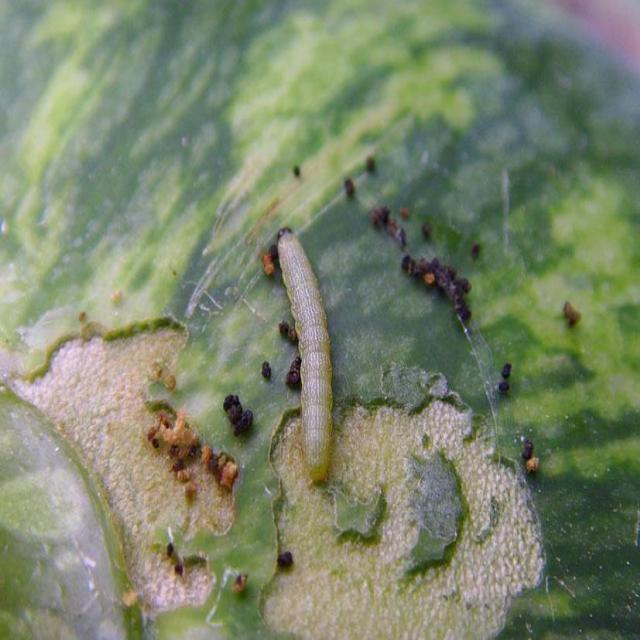BeetArmyWorm-Larva-: (274, 232, 334, 486)
